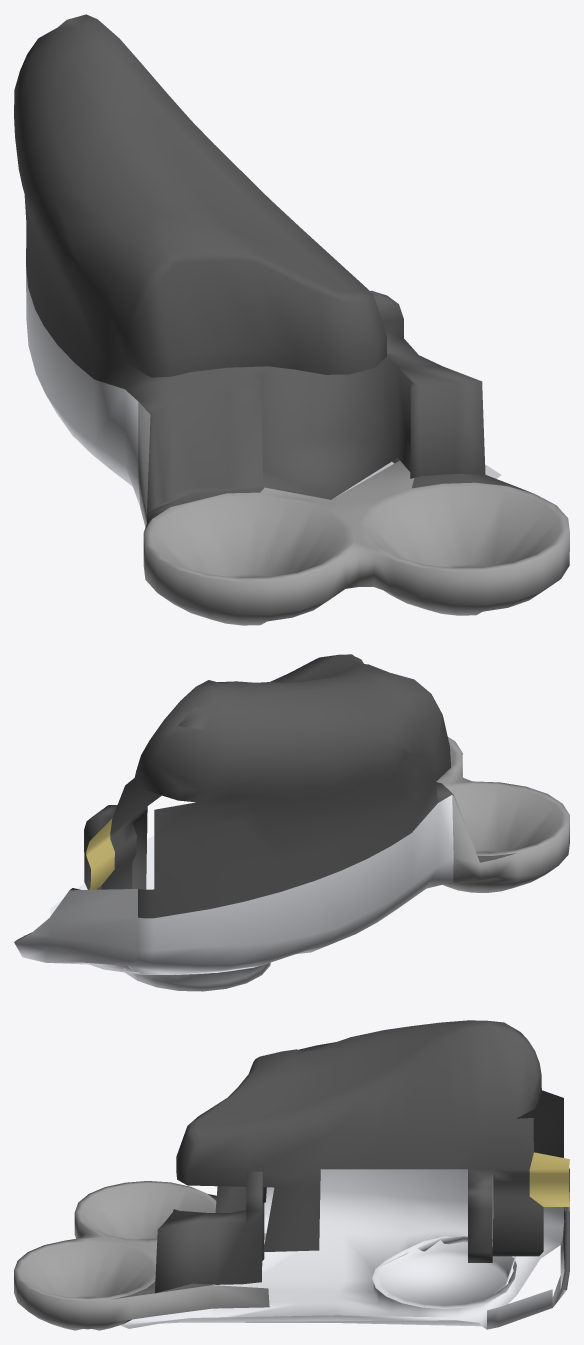
File: h11_left.glb
3 views of the same model, one above another, from view 1: azimuth 30°, elevation 25°; view 2: azimuth 150°, elevation 25°; view 3: azimuth 270°, elevation 25° (orthographic). The views are drawn at different scales.
Parts seen in each view (by area): view 1: h11_left; view 2: h11_left; view 3: h11_left.
Boxes of the visible parts, x1,y1,x2,y2 form: h11_left: (14,14,569,625); h11_left: (14,654,569,991); h11_left: (14,1020,569,1330).
Size of the model in its own units: 0.048 by 0.0454 by 0.087.
